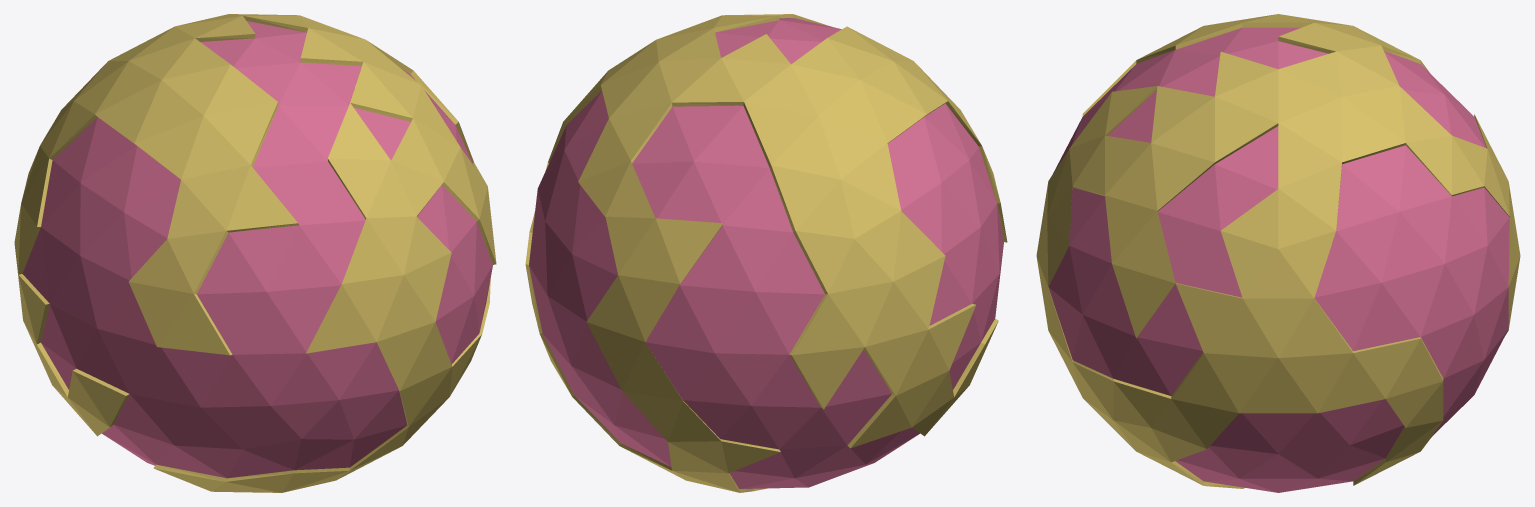
Rendered from planetz.dae.
The picture shows the model from 3 angles, left to right: view 1: azimuth 30°, elevation 25°; view 2: azimuth 150°, elevation 25°; view 3: azimuth 270°, elevation 25°; orthographic projection.
Visible parts, largest first — view 1: Icosphere; view 2: Icosphere; view 3: Icosphere.
Part boxes in pixels (left/top/right/bottom): Icosphere: left=14, top=14, right=496, bottom=492; Icosphere: left=525, top=14, right=1007, bottom=492; Icosphere: left=1036, top=14, right=1520, bottom=492.
Bounding box in the file's own units: 2 × 2 × 2.
